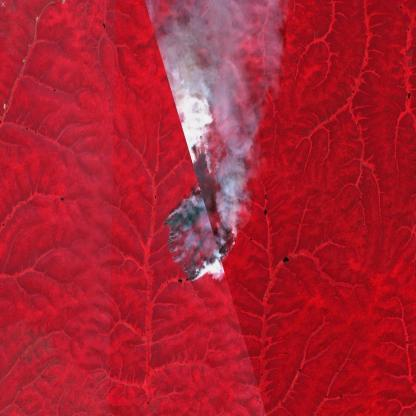fire: (161, 146, 240, 284)
